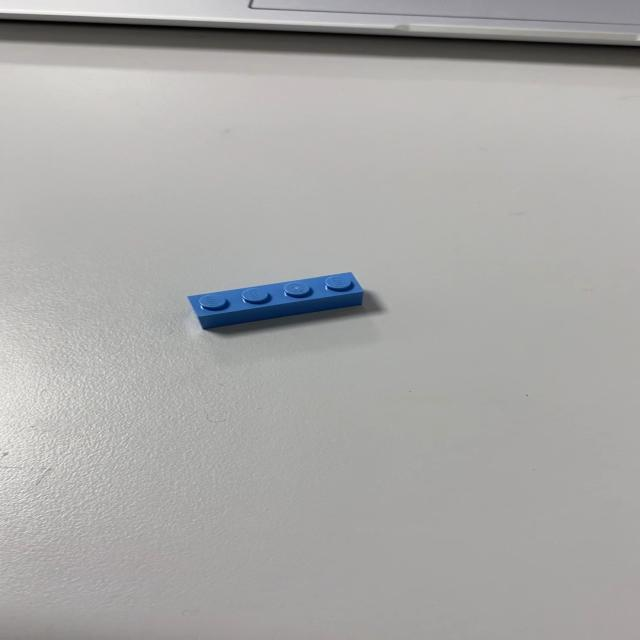C4x1x1: (186, 271, 364, 330)
